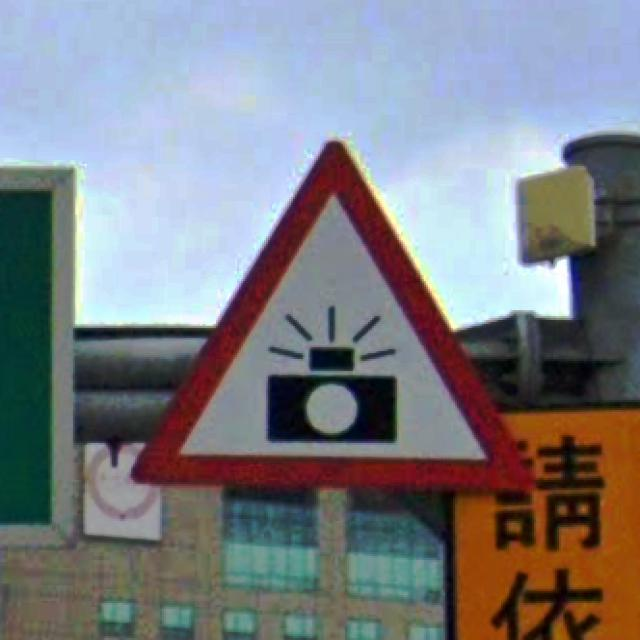speedcamera: (129, 137, 538, 500)
